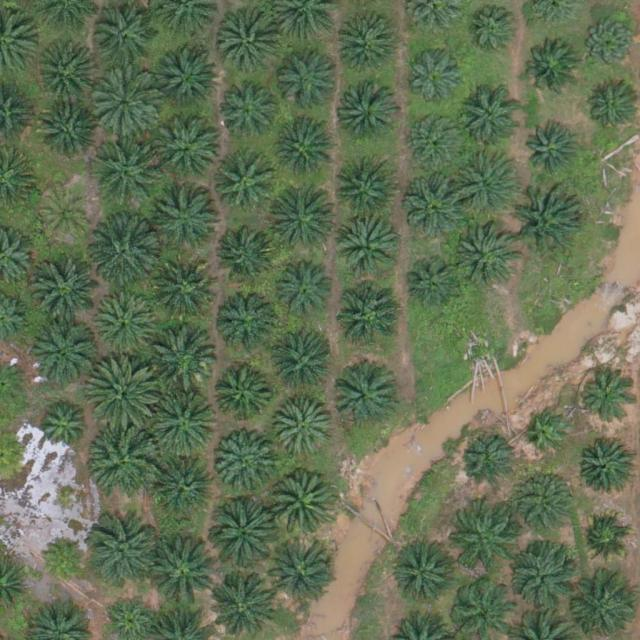Healthy: (89, 517, 160, 588), (147, 322, 218, 393), (89, 140, 160, 211), (90, 67, 160, 138), (509, 537, 580, 607), (267, 469, 337, 540), (207, 499, 277, 570), (147, 536, 217, 607), (149, 386, 219, 457), (88, 356, 158, 427), (91, 425, 162, 495), (449, 147, 519, 218), (89, 218, 160, 288), (31, 259, 101, 330), (28, 317, 98, 388), (265, 537, 335, 607), (510, 187, 580, 257), (269, 184, 339, 254), (32, 39, 95, 102), (219, 16, 282, 79), (277, 49, 340, 112), (514, 469, 577, 532), (447, 510, 510, 573), (214, 431, 277, 494), (272, 259, 335, 322), (217, 287, 280, 350), (215, 222, 278, 285), (91, 7, 153, 70), (157, 44, 219, 107), (338, 18, 400, 81), (339, 85, 401, 148), (396, 540, 458, 603), (332, 368, 394, 431), (272, 337, 335, 399), (274, 398, 336, 461), (210, 364, 272, 427), (453, 225, 515, 288), (406, 173, 468, 236), (337, 285, 400, 347), (334, 216, 396, 279), (334, 161, 396, 224), (274, 119, 336, 182), (212, 150, 275, 212), (95, 294, 157, 357), (33, 99, 95, 162), (406, 47, 468, 109), (460, 87, 522, 149), (156, 455, 218, 517), (157, 118, 219, 180), (157, 191, 219, 253), (152, 262, 214, 324), (463, 4, 518, 59), (580, 373, 635, 428), (461, 433, 516, 488), (35, 399, 90, 454), (409, 114, 464, 169), (585, 83, 639, 138), (582, 16, 636, 71), (523, 40, 577, 95), (221, 84, 275, 139), (578, 438, 632, 493), (578, 512, 632, 567), (526, 126, 580, 181), (407, 255, 461, 310)
Small: (526, 411, 573, 459), (40, 535, 87, 582)
Yellow: (39, 189, 94, 244)
